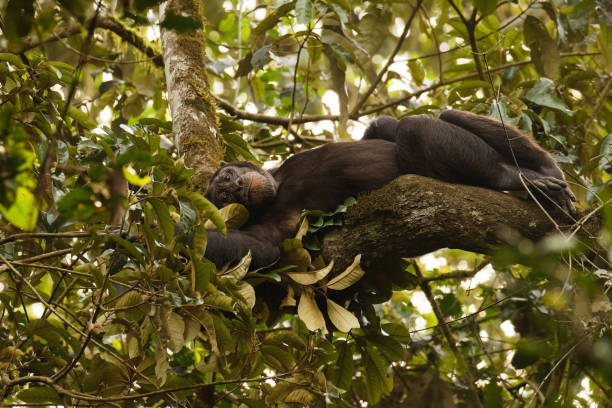chimpanzee: (200, 153, 281, 217)
